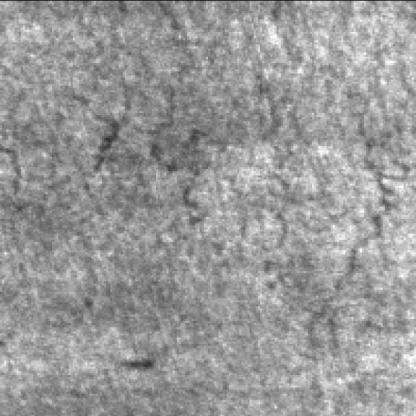crazing: (252, 68, 414, 360), (2, 66, 225, 222)
